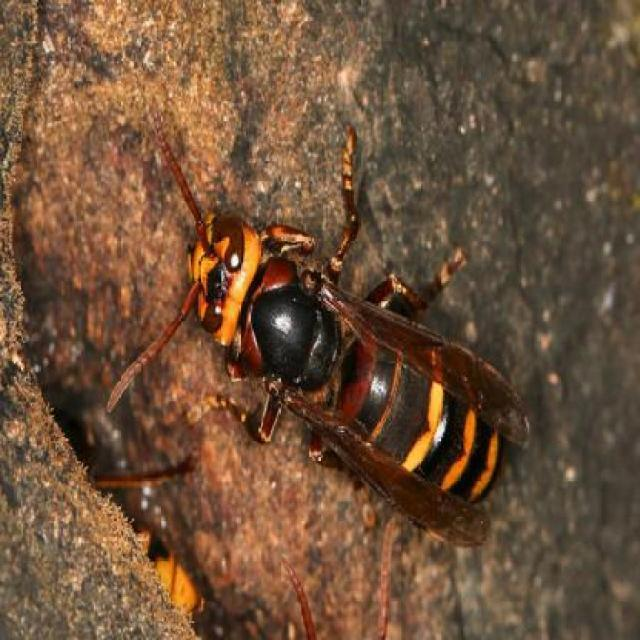Wasp: (129, 83, 527, 550)
